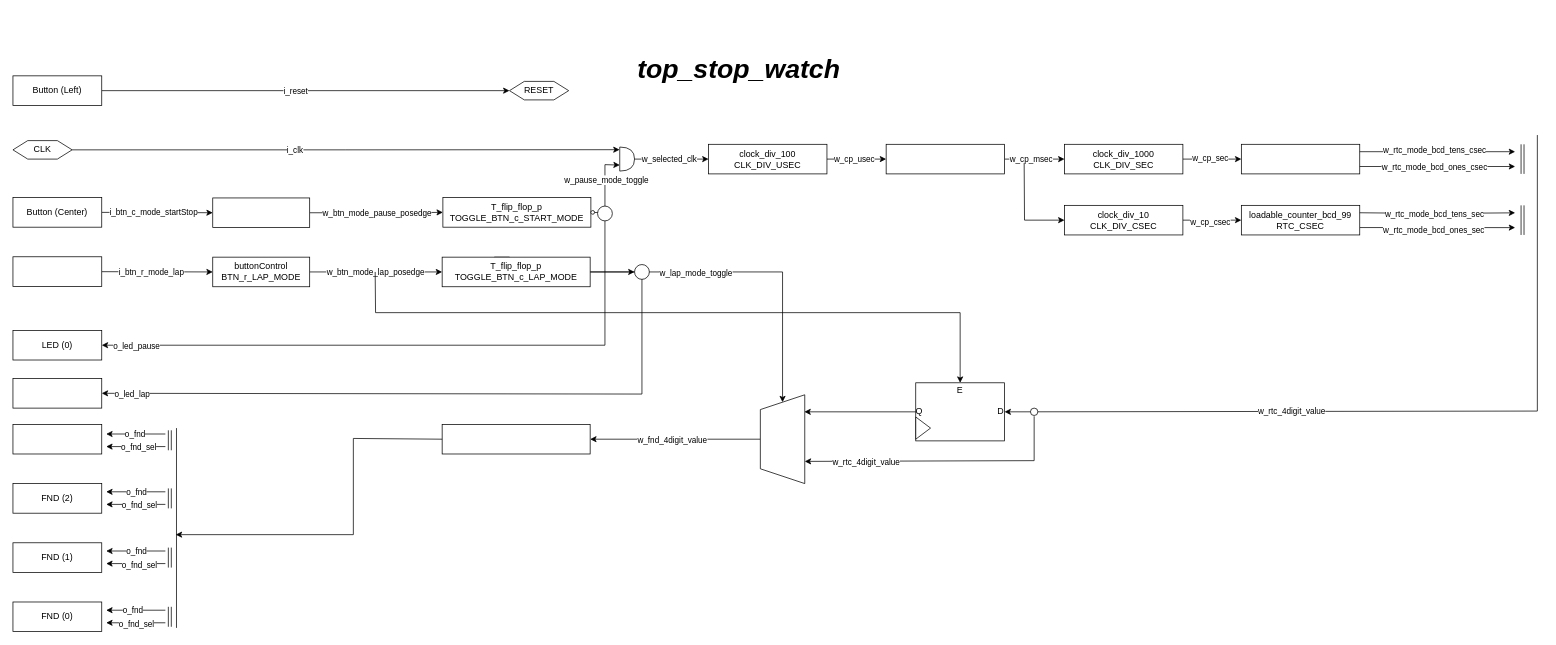
This 1556x645 diagram has some shape labels left out. Each missing label, with the box of its shape:
Button (Right): (12, 256, 102, 286)
buttonControl BTN_c_START_MODE: (212, 197, 310, 228)
clock_div_1000 CLK_DIV_MSEC: (885, 144, 1005, 174)
FND (3): (12, 424, 102, 454)
fndControl FND_CTRL: (441, 424, 590, 454)
LED (1): (12, 378, 102, 408)
loadable_counter_bcd_60 RTC_SEC: (1241, 144, 1360, 174)
r_lap_register [15 : 0]: (915, 382, 1005, 441)
